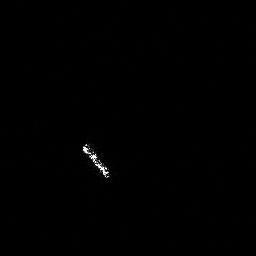ship: (80, 143, 111, 180)
